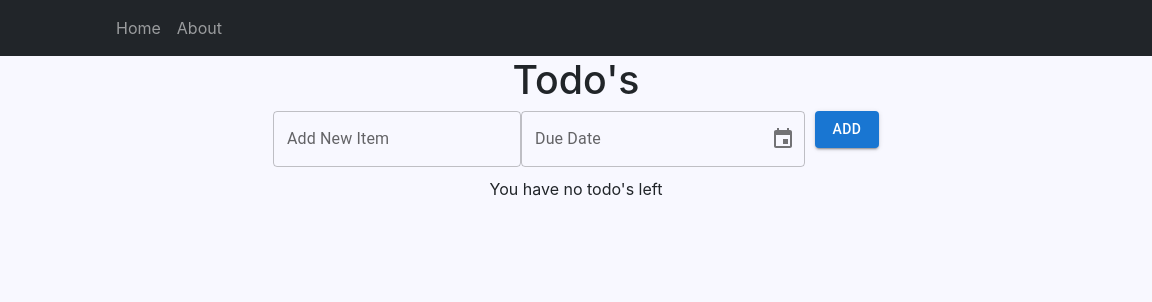
it: test that AddTodo component can be deleted thru checkbox
The image size is (1152, 302).
Type "Hey" into the field labelled "Add New Item".
click(397, 139); type("Hey")  # box [273,111,521,167]
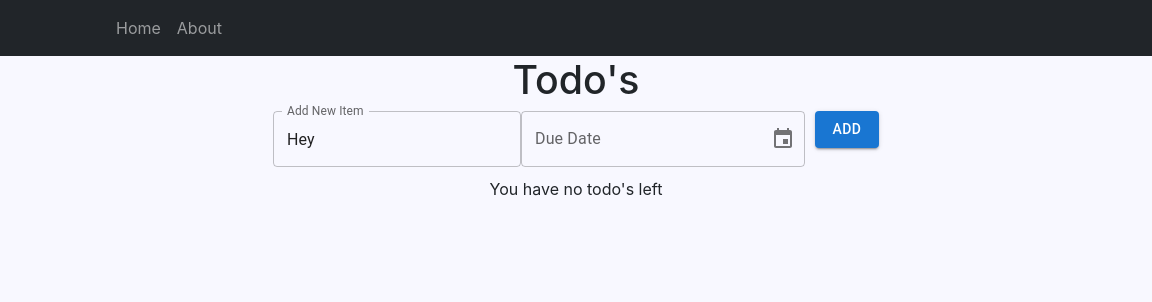
Type "04/20/2024" into the field with placeholder "mm/dd/yyyy".
click(638, 139); type("04/20/2024")  # box [521,111,755,167]
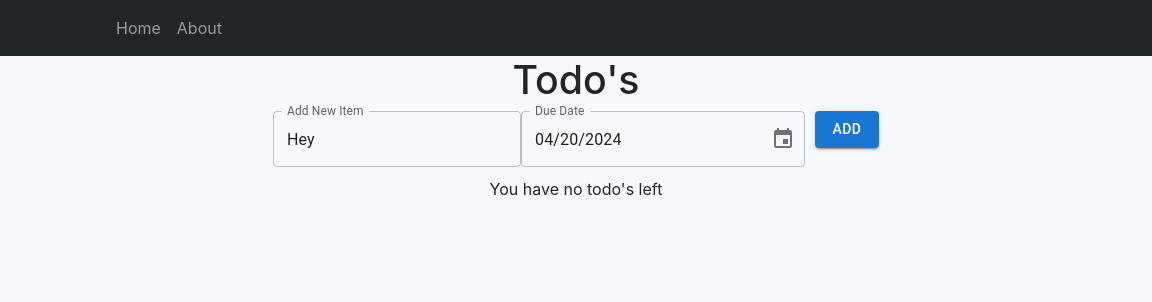
Click the button "Add".
click(847, 129)  # box [815,111,879,148]
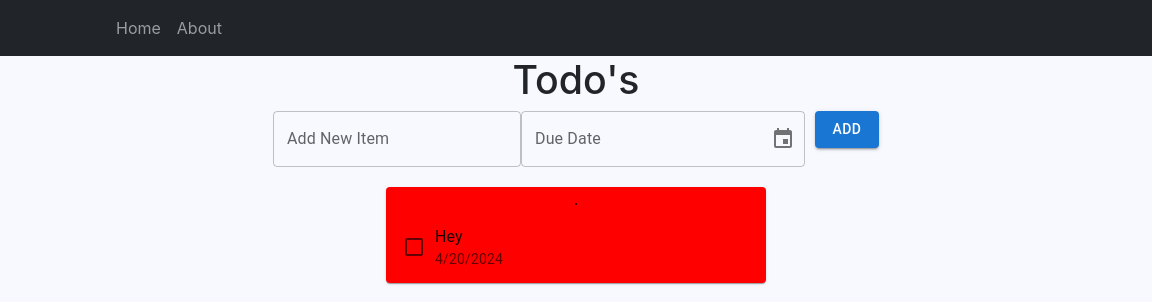
Click the checkbox.
click(414, 247)  # box [402,235,426,259]
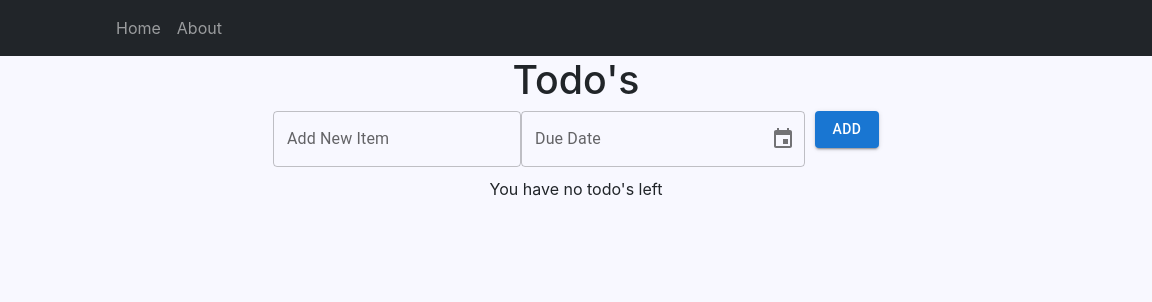
Now the link "Hey" is gone
